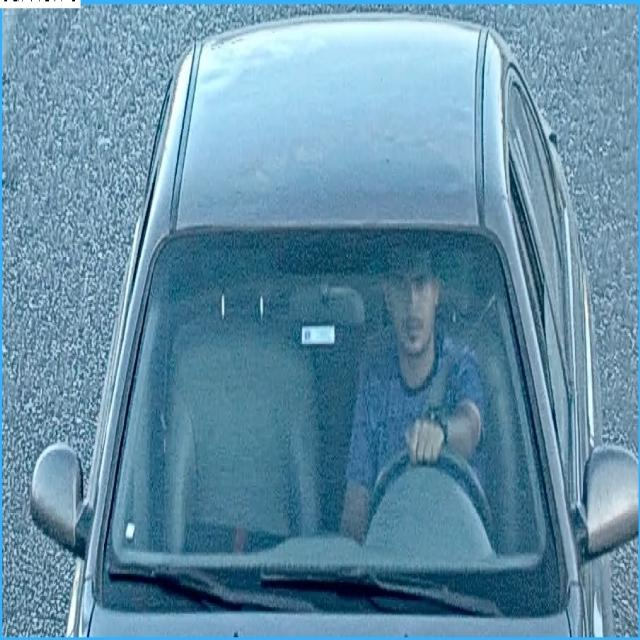windshield: (104, 246, 552, 608)
